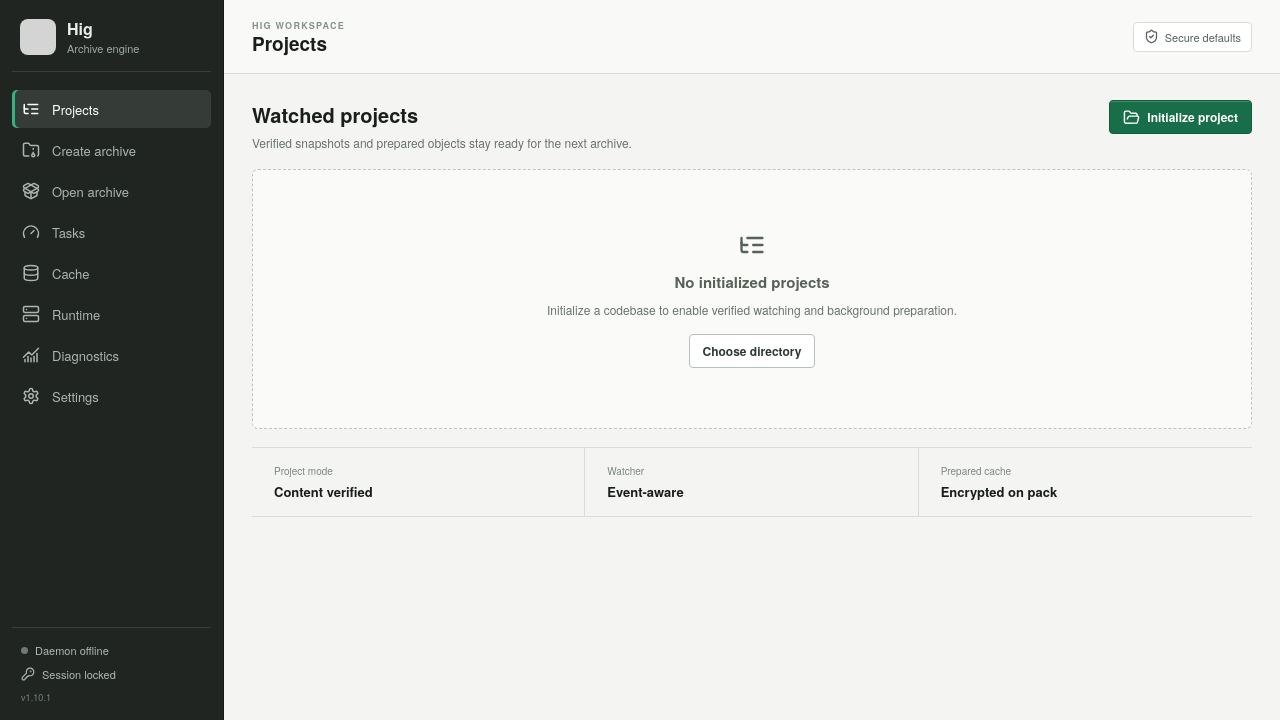
Scenario: Hig desktop › localizes known backend errors by code
Expected: the text "Secure defaults" is shown, [1133, 22, 1252, 52]
Click the button "Settings" at (112, 396), box [12, 377, 211, 415]
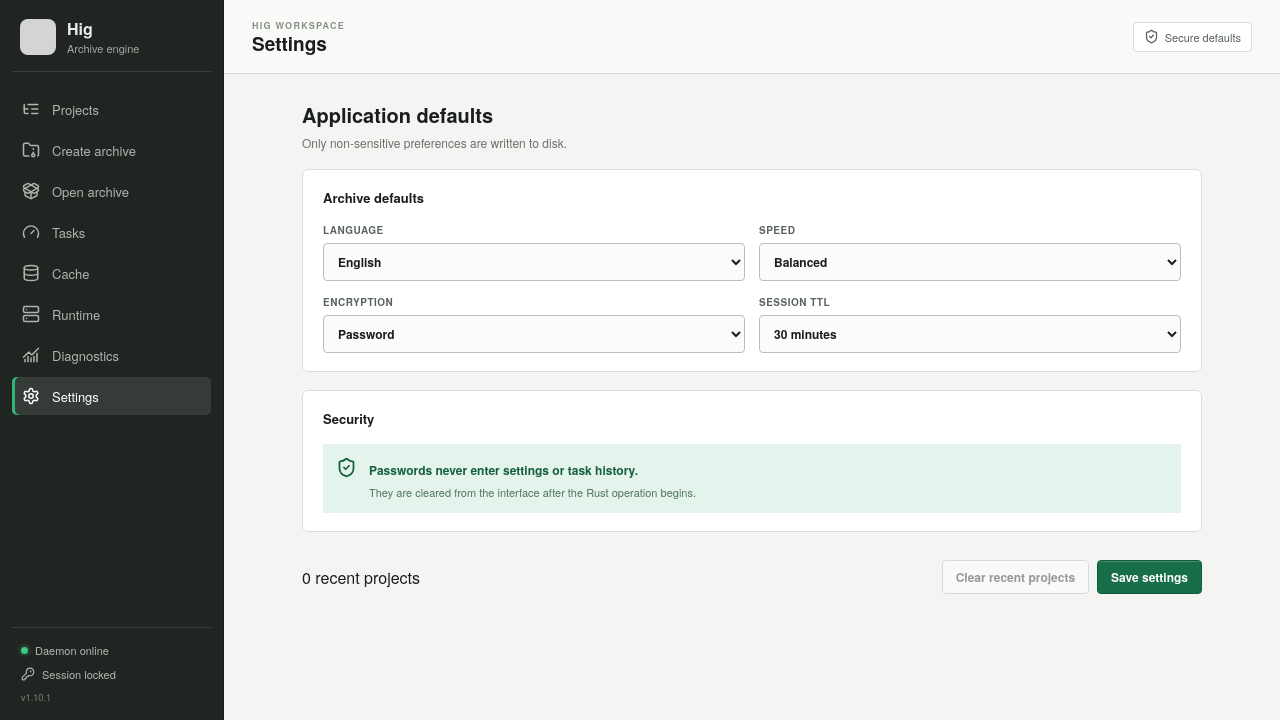
Select "简体中文" in the dropdown labelled "Language" at (534, 262), box [323, 243, 745, 281]
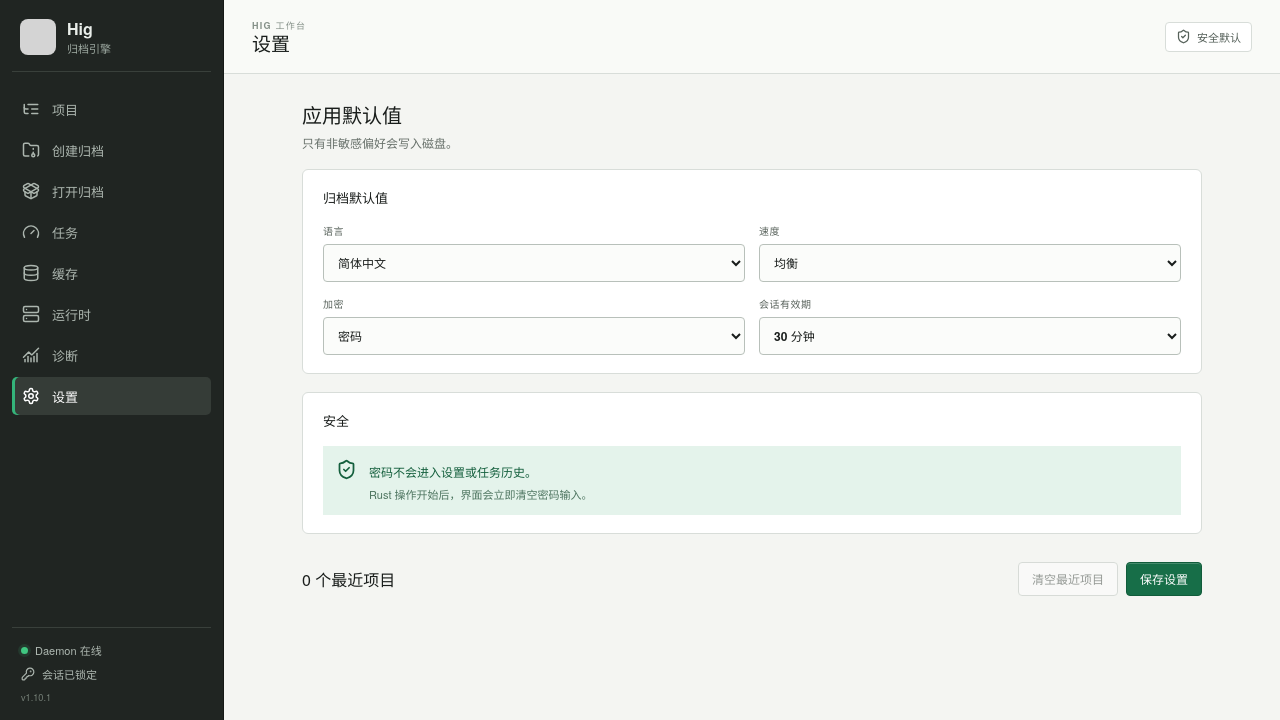
Now the heading "设置" is shown, box [252, 30, 290, 56]
Click the button "会话已锁定" at (112, 674), box [21, 666, 202, 682]
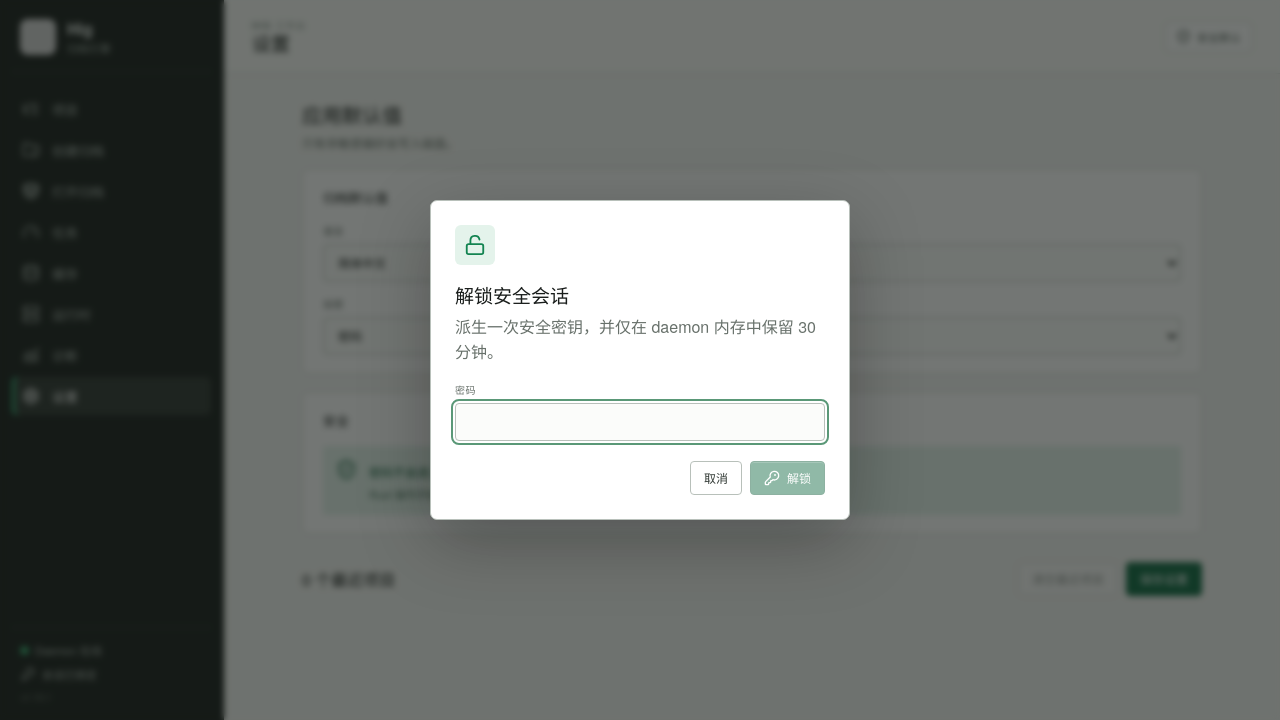
Type "temporary-password" into the password field labelled "密码" at (640, 422), box [455, 403, 825, 441]
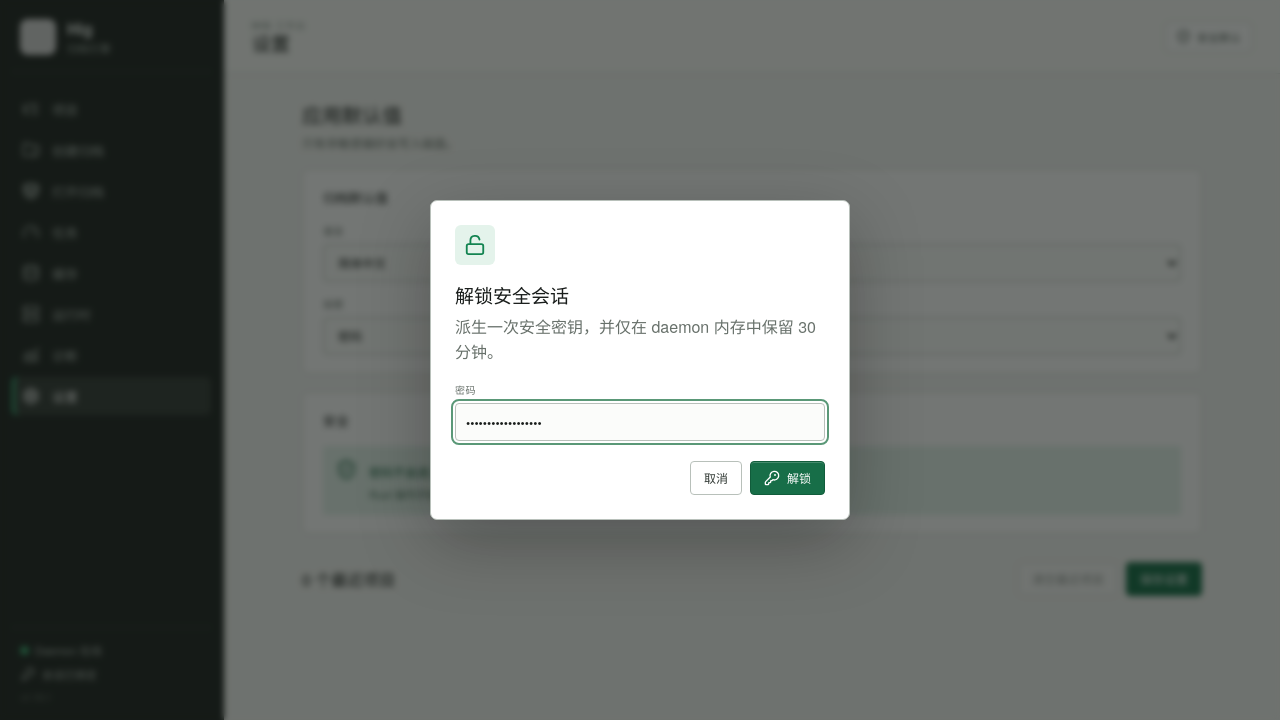
Click the button "解锁" at (788, 478), box [750, 461, 825, 495]
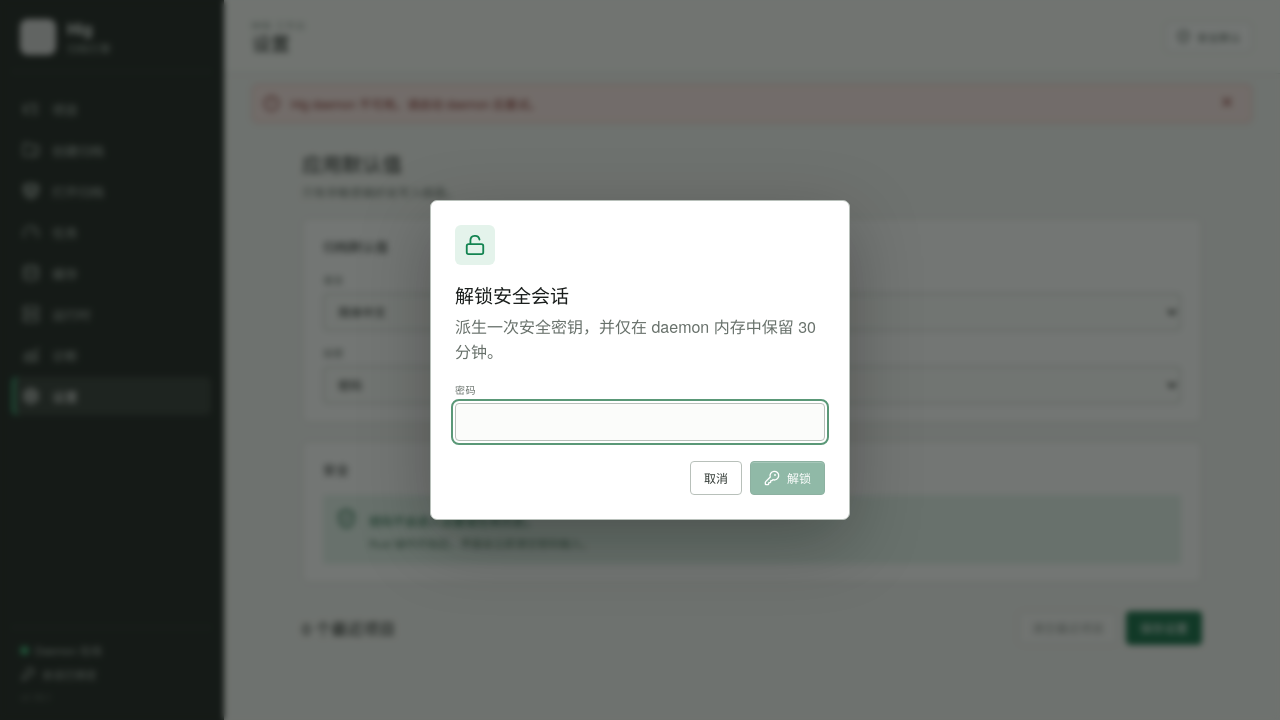
Now the text "Hig daemon 不可用。请启动 daemon 后重试。" is shown, box [291, 95, 541, 112]
